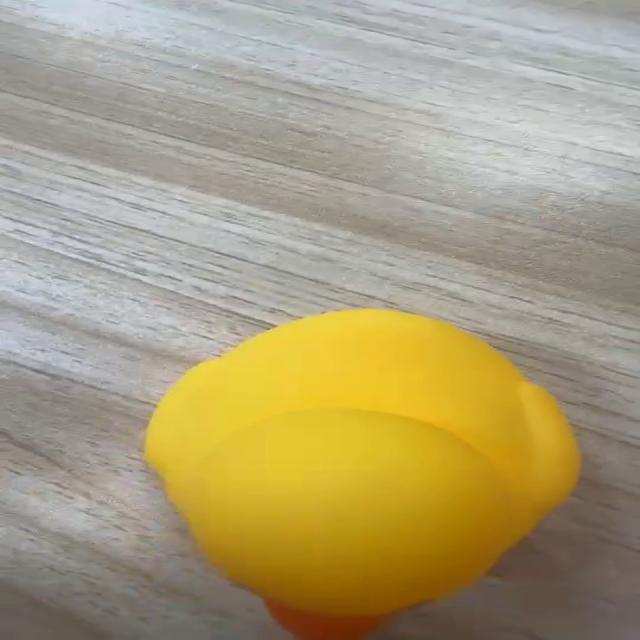yellow_duck: (141, 307, 583, 638)
